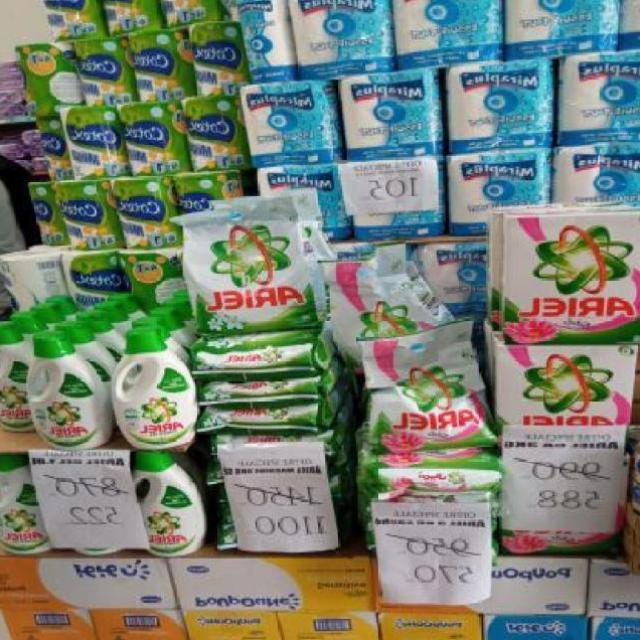Detergent: (180, 197, 316, 334), (500, 212, 640, 344), (365, 325, 501, 457), (494, 342, 639, 427), (111, 326, 202, 448), (27, 338, 106, 450), (189, 332, 325, 383), (141, 449, 203, 557), (358, 453, 502, 499), (0, 450, 42, 555), (195, 377, 322, 410), (0, 322, 37, 434), (196, 407, 324, 433)
